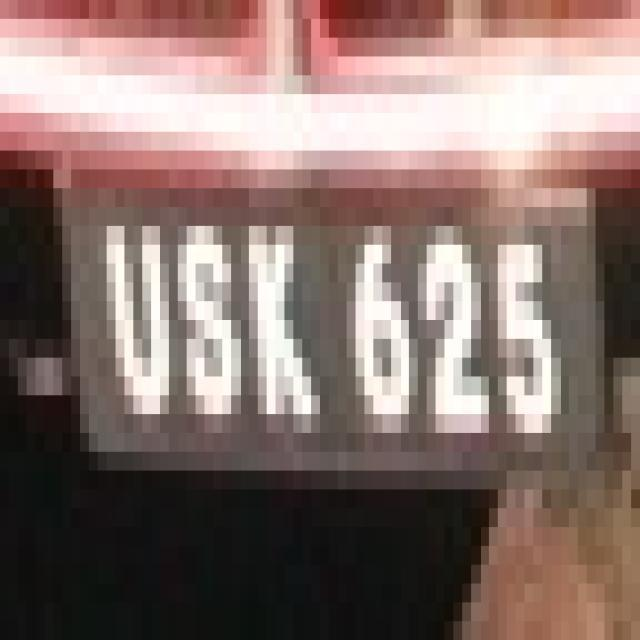licenseplate: (46, 128, 626, 518)
